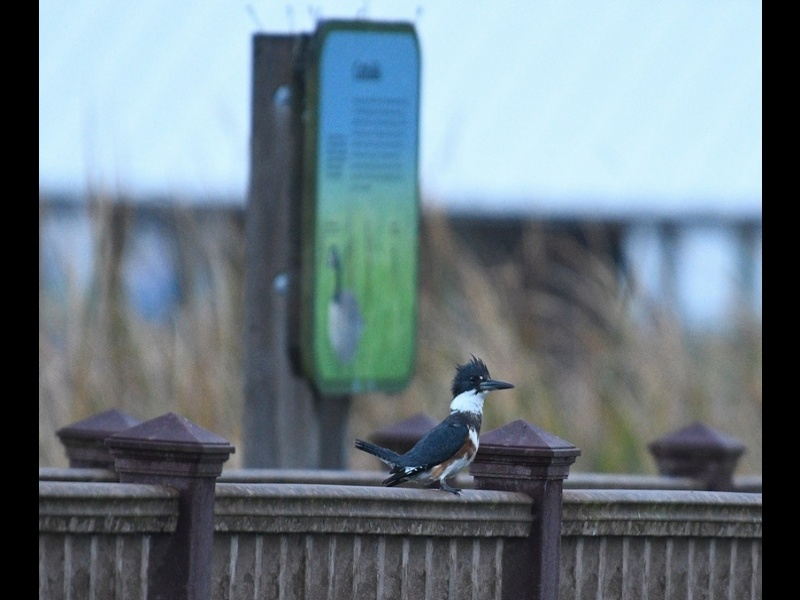kingfisher: (353, 354, 516, 492)
